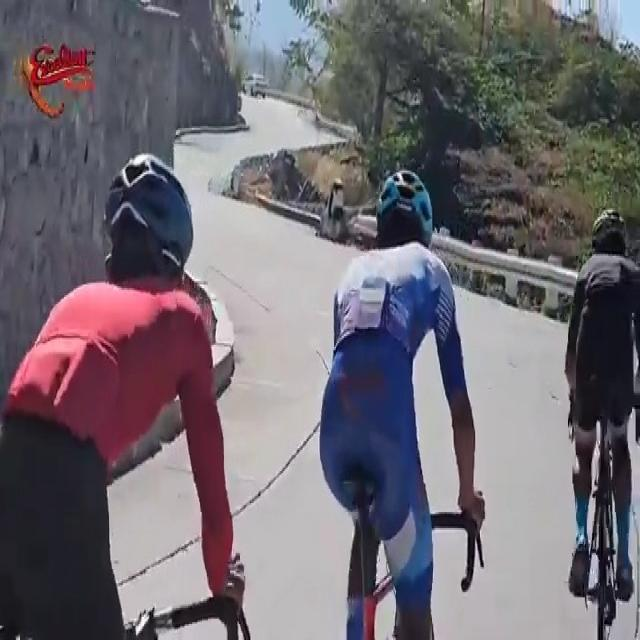bike: (2, 145, 254, 640), (317, 160, 484, 640), (560, 210, 640, 640)
car: (242, 65, 268, 100)
